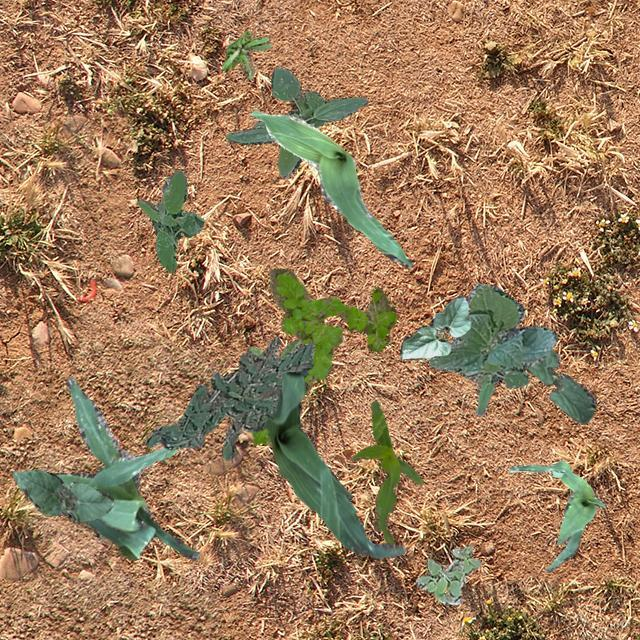crop: (53, 374, 199, 560), (266, 372, 404, 556), (250, 110, 410, 266), (428, 282, 556, 416), (508, 459, 604, 572), (348, 399, 422, 544), (524, 348, 596, 422), (12, 468, 112, 520), (398, 294, 469, 358)
weed: (250, 268, 396, 446), (144, 336, 314, 460), (225, 66, 366, 176), (136, 170, 202, 272), (414, 546, 480, 604), (220, 28, 270, 76), (246, 338, 300, 358)
